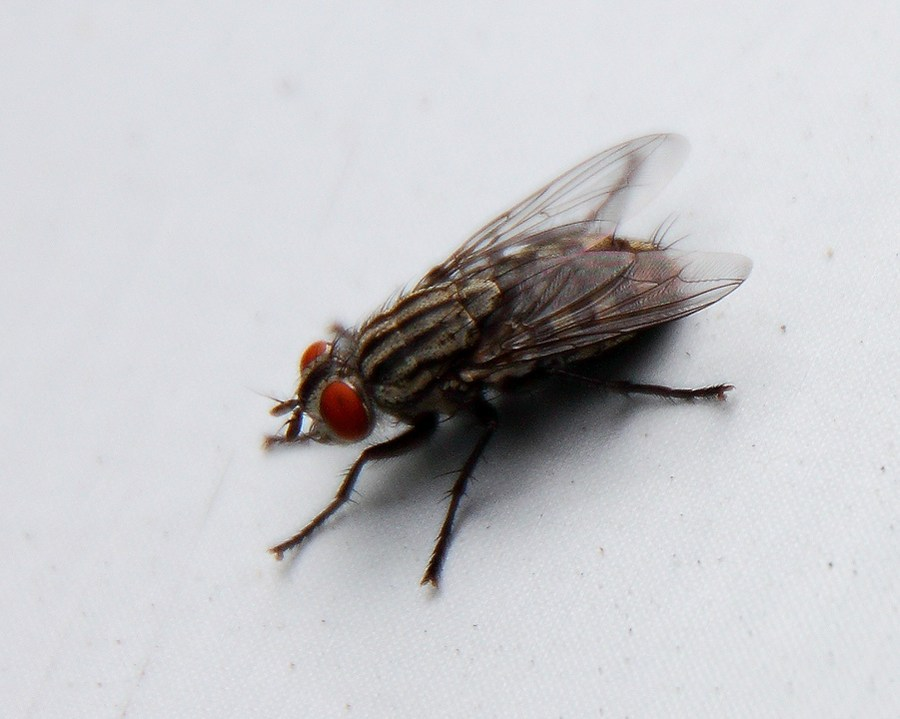fly: (251, 125, 764, 614)
